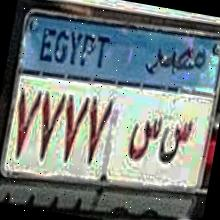7: (7, 87, 44, 164), (80, 94, 115, 170), (33, 90, 68, 162), (56, 92, 90, 166)
seen: (124, 112, 163, 170), (156, 118, 195, 170)
